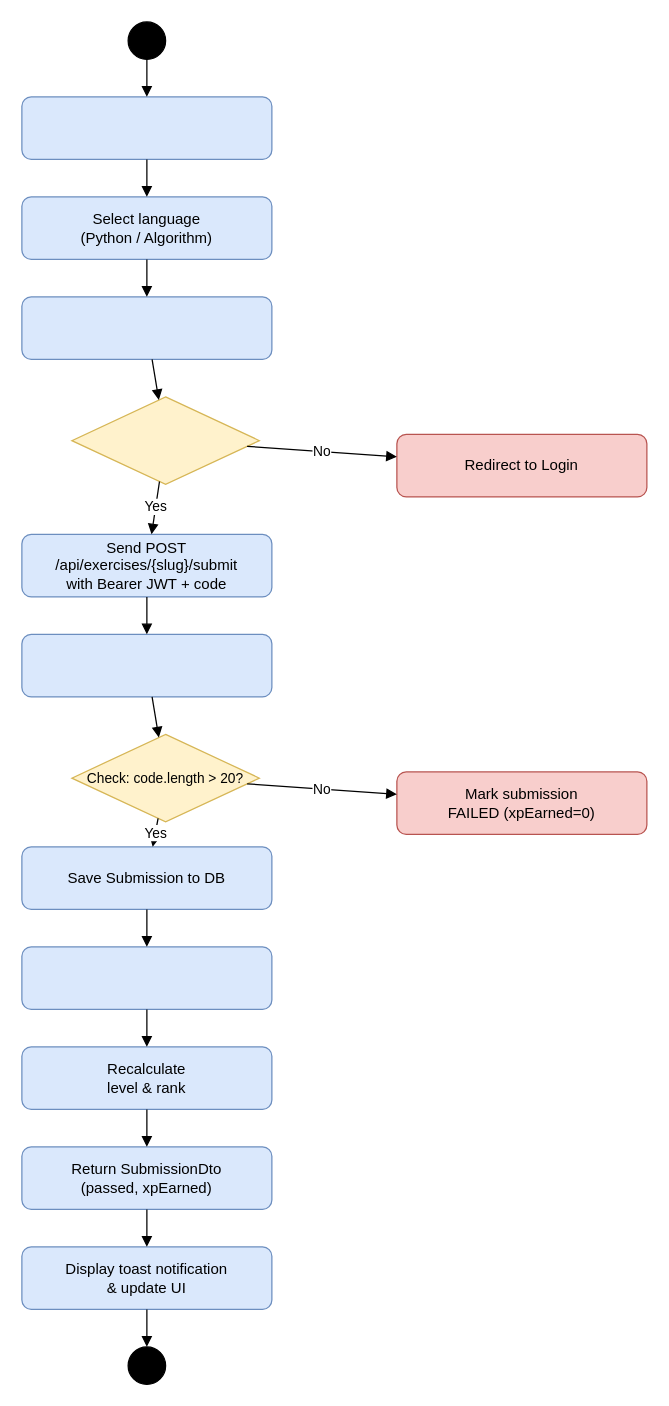
Image size: 669x1406. Some labels were removed from this diagram. Each missing label, with the centre of its shape:
"Check: User authenticated?" belongs at (x=165, y=440).
"Click 'Submit' button" belongs at (x=146, y=327).
"JwtAuthFilter validates token" belongs at (x=146, y=665).
"Update User XP (addXp)" belongs at (x=146, y=977).
"User writes code in Monaco Editor" belongs at (x=146, y=127).
